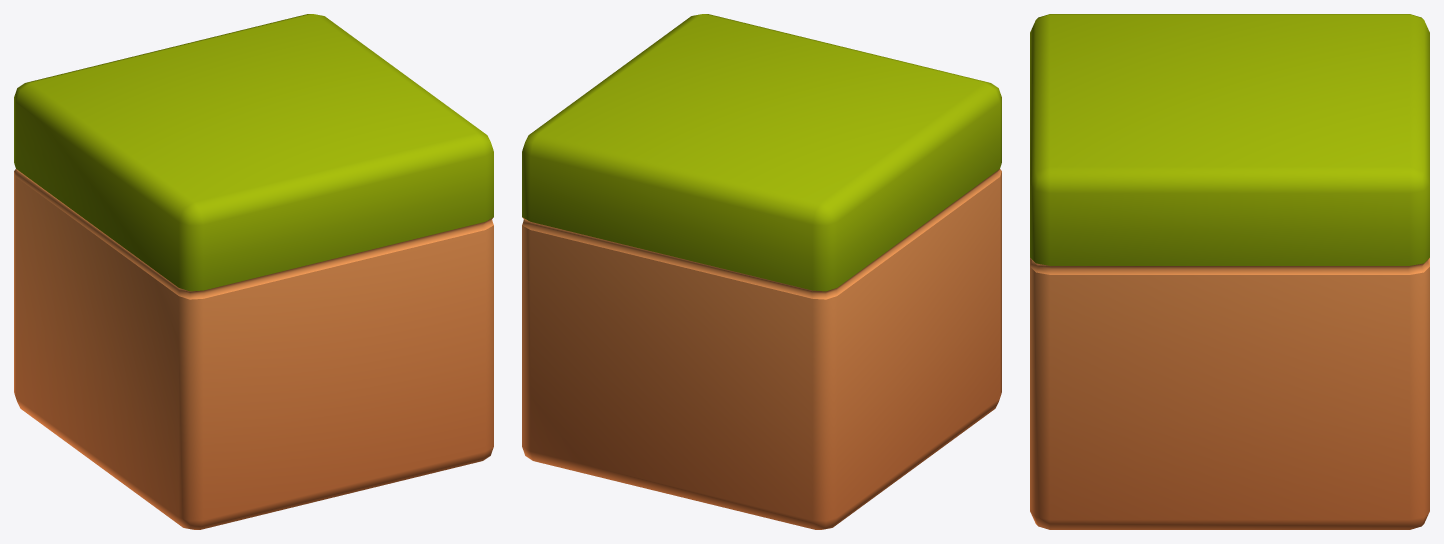
Rendered from 3D_Tile_Ground_01.glb.
3 views of the same model, side by side, from view 1: azimuth 30°, elevation 25°; view 2: azimuth 150°, elevation 25°; view 3: azimuth 270°, elevation 25° (orthographic). The views are drawn at different scales.
Parts seen in each view (by area): view 1: 3D_Tile_Ground_01; view 2: 3D_Tile_Ground_01; view 3: 3D_Tile_Ground_01.
Part boxes in pixels (box(x1,y1,x2,y2)): 3D_Tile_Ground_01: box(14, 14, 493, 529); 3D_Tile_Ground_01: box(522, 14, 1001, 529); 3D_Tile_Ground_01: box(1030, 14, 1429, 529).
Size of the model in its own units: 2 by 2 by 2.
Materials: 1 (1 with a texture image).
